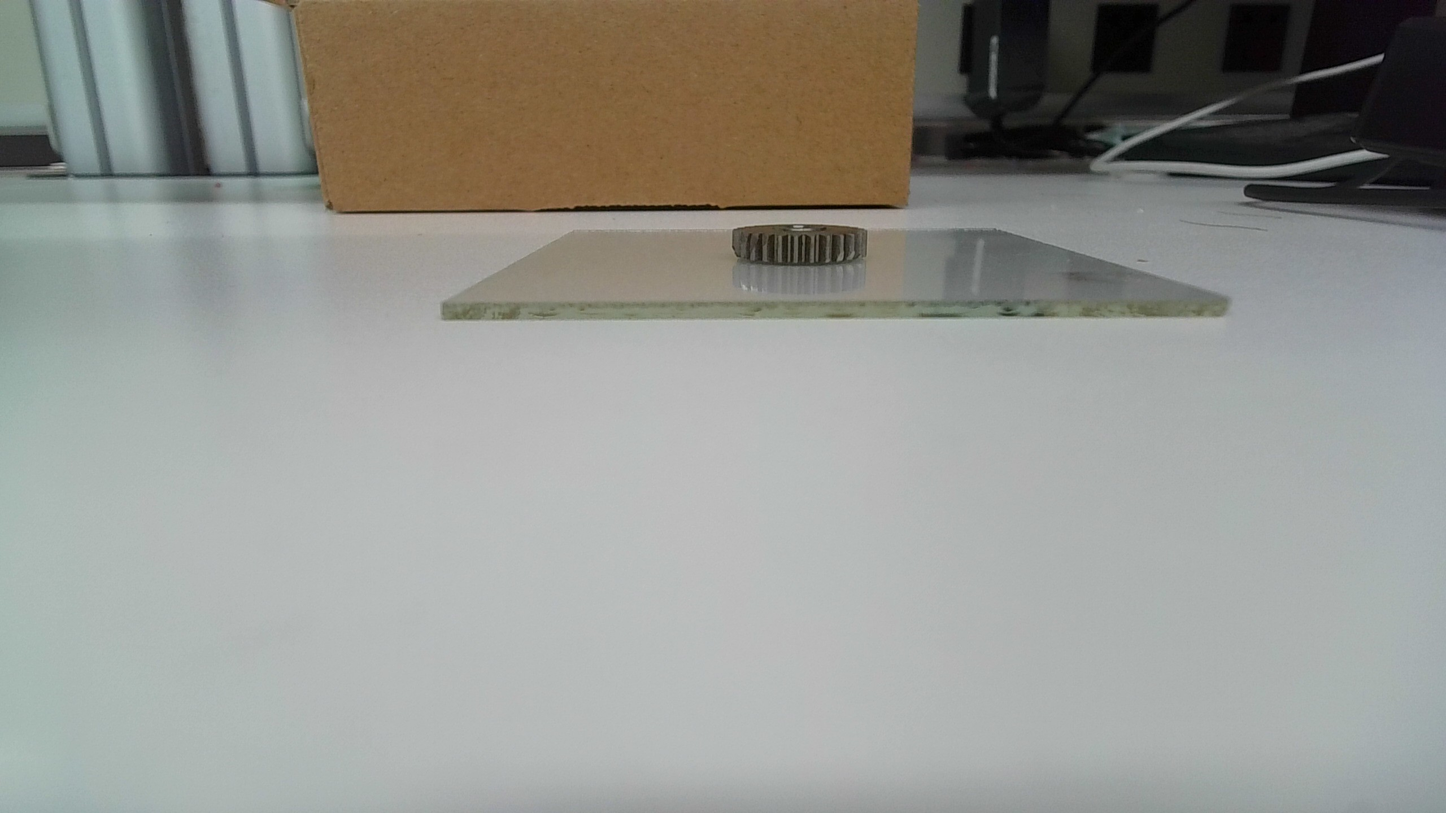gear: (731, 222, 870, 268)
